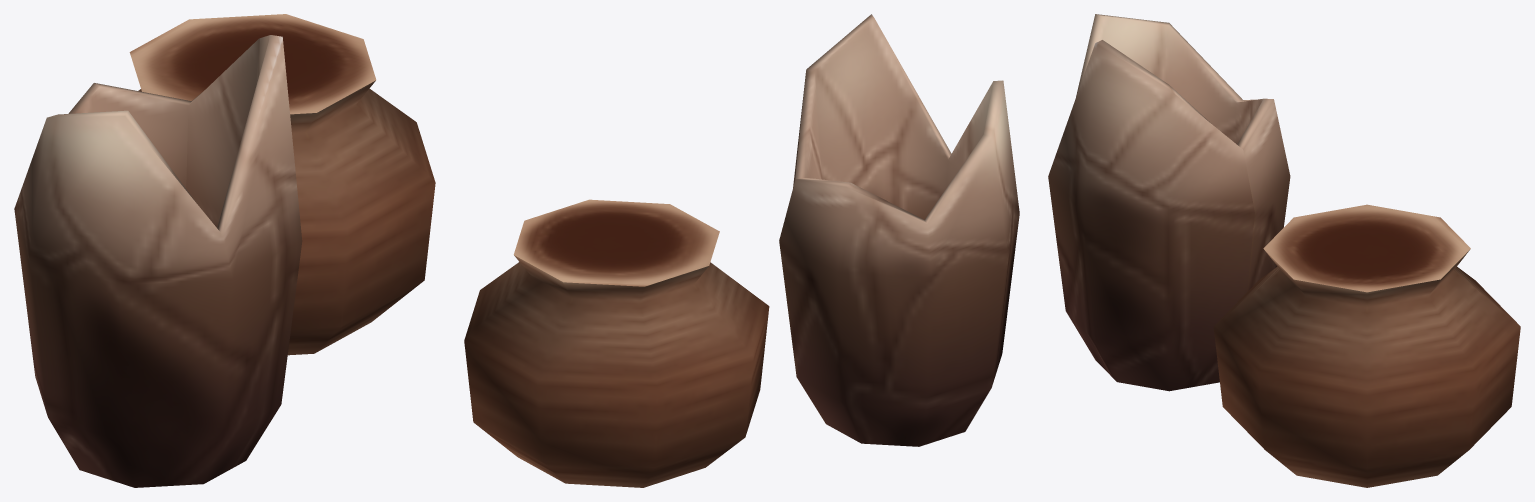
File: a_SWCash01.glb
The picture shows the model from 3 angles, left to right: view 1: azimuth 30°, elevation 25°; view 2: azimuth 150°, elevation 25°; view 3: azimuth 270°, elevation 25°; orthographic projection. The views are drawn at different scales.
Parts seen in each view (by area): view 1: a_SWCash01; view 2: a_SWCash01; view 3: a_SWCash01.
Part boxes in pixels (x1=…): a_SWCash01: x1=14, y1=14, x2=435, y2=487; a_SWCash01: x1=464, y1=14, x2=1019, y2=487; a_SWCash01: x1=1048, y1=14, x2=1520, y2=487.
Size of the model in its own units: 0.5226 by 0.4204 by 0.5168.
Materials: 1 (1 with a texture image).
